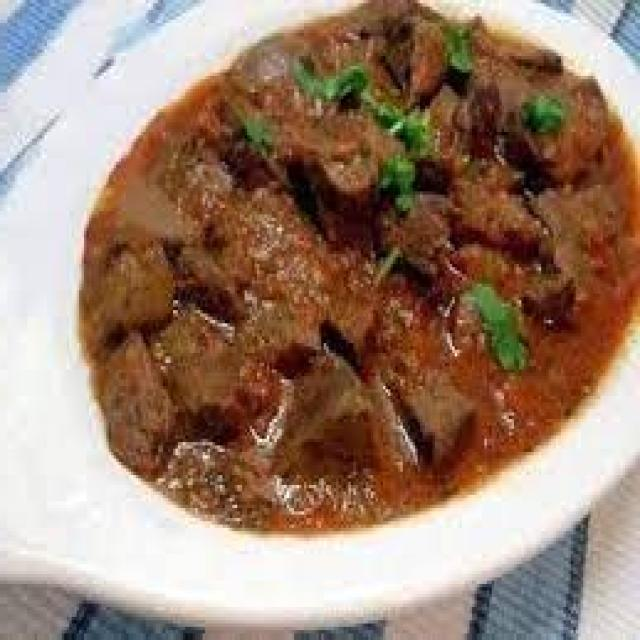kamouniya: (82, 19, 640, 534)
